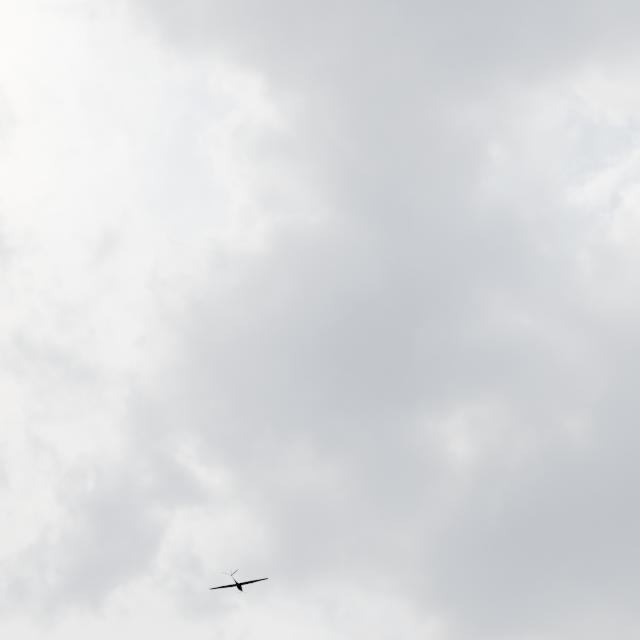Airaplan: (209, 569, 269, 593)
